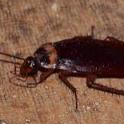cockroach: (18, 33, 124, 96)
